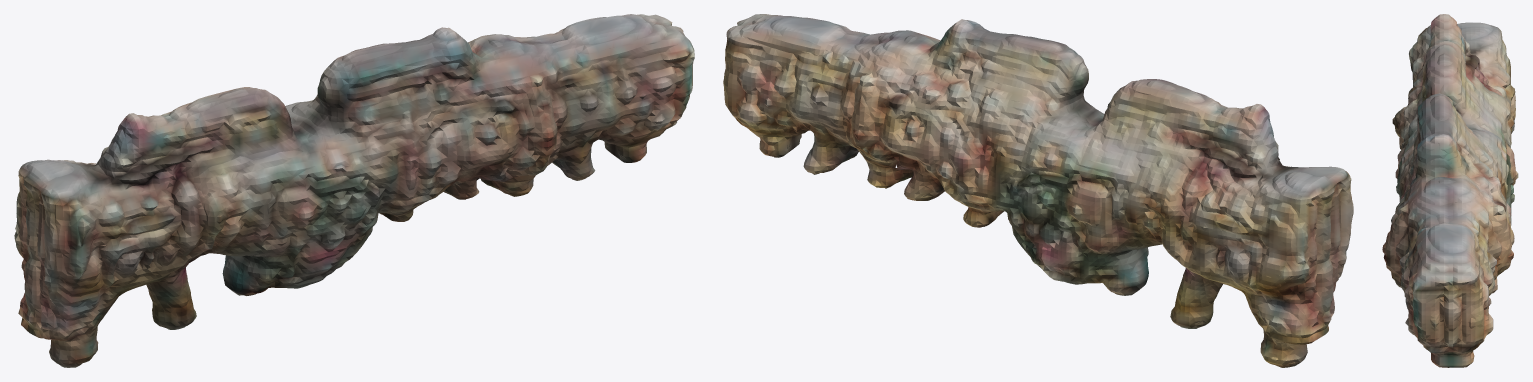
Rendered from elefantes-de-madeira.glb.
3 views of the same model, side by side, from view 1: azimuth 30°, elevation 25°; view 2: azimuth 150°, elevation 25°; view 3: azimuth 270°, elevation 25° (orthographic). The views are drawn at different scales.
Parts seen in each view (by area): view 1: geometry_0; view 2: geometry_0; view 3: geometry_0.
Part boxes in pixels (x1,y1,x2,y2): geometry_0: (14,14,694,367); geometry_0: (723,14,1353,367); geometry_0: (1382,14,1518,367).
Bounding box in the file's own units: 0.9682 × 0.3743 × 0.2071.
